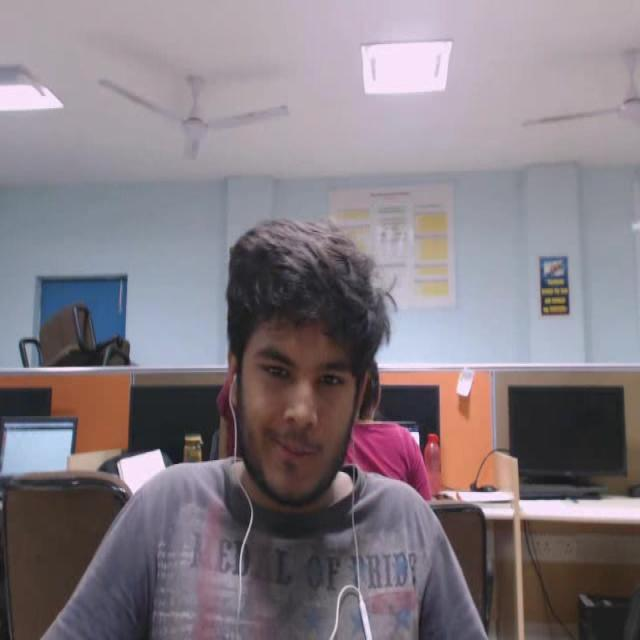Engaged: (191, 167, 434, 557)
